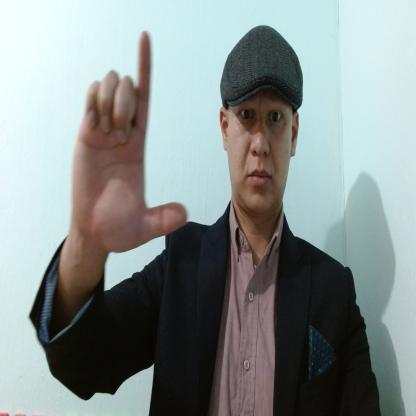L: (70, 30, 188, 254)
